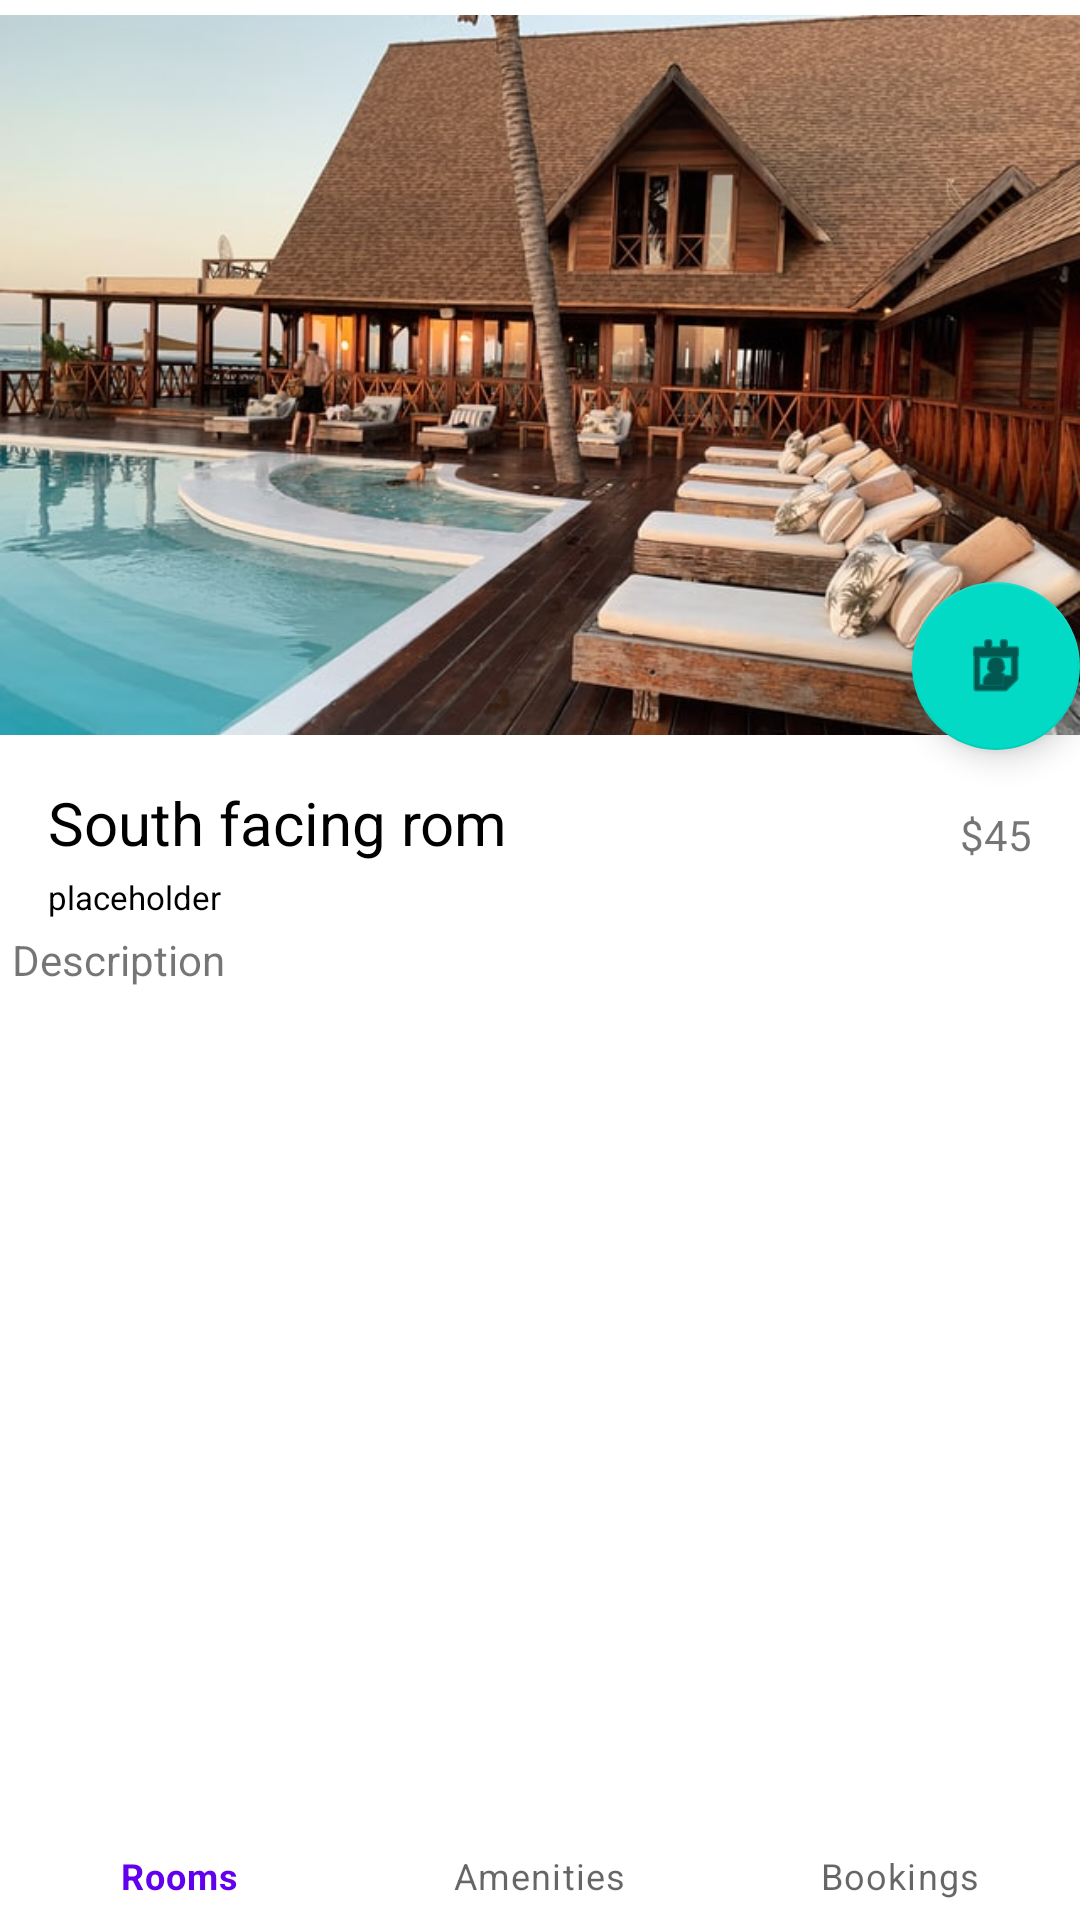

Icon click points for this 1080×1920 phone screenshot, format (x,y):
calendar: (996,666)
